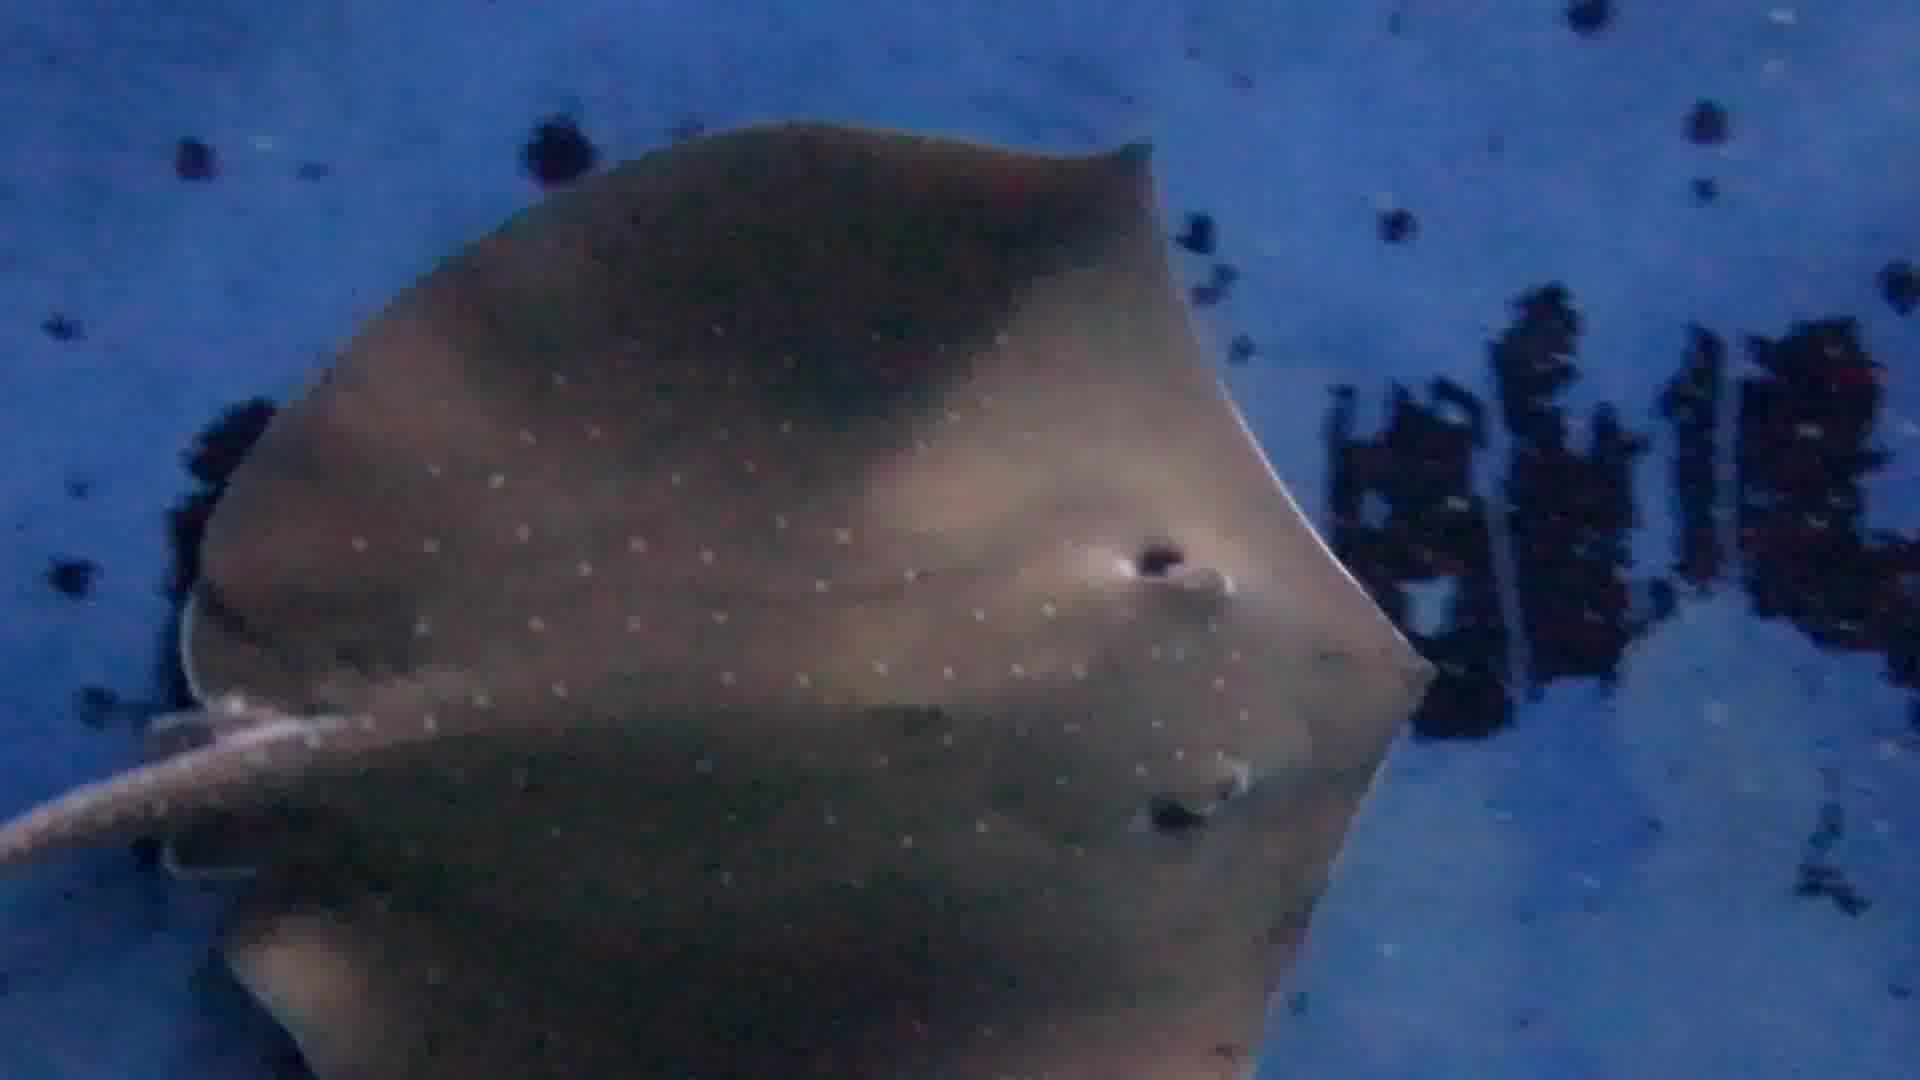Himantura gerrardi: (1, 113, 1456, 1077)
